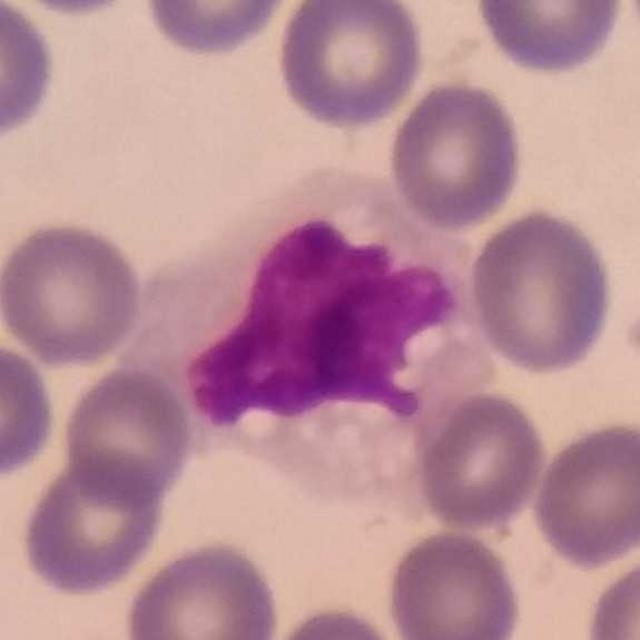Monocyte: (138, 152, 501, 492)
RBC: (464, 204, 618, 377), (0, 216, 148, 369), (384, 76, 528, 232), (16, 453, 169, 599), (271, 0, 429, 131), (57, 363, 197, 509), (412, 388, 550, 534), (527, 416, 640, 570), (119, 536, 285, 640), (382, 524, 526, 640), (471, 0, 630, 78), (139, 0, 300, 59), (0, 0, 61, 148), (0, 337, 59, 484), (258, 601, 413, 640), (582, 551, 640, 640)
